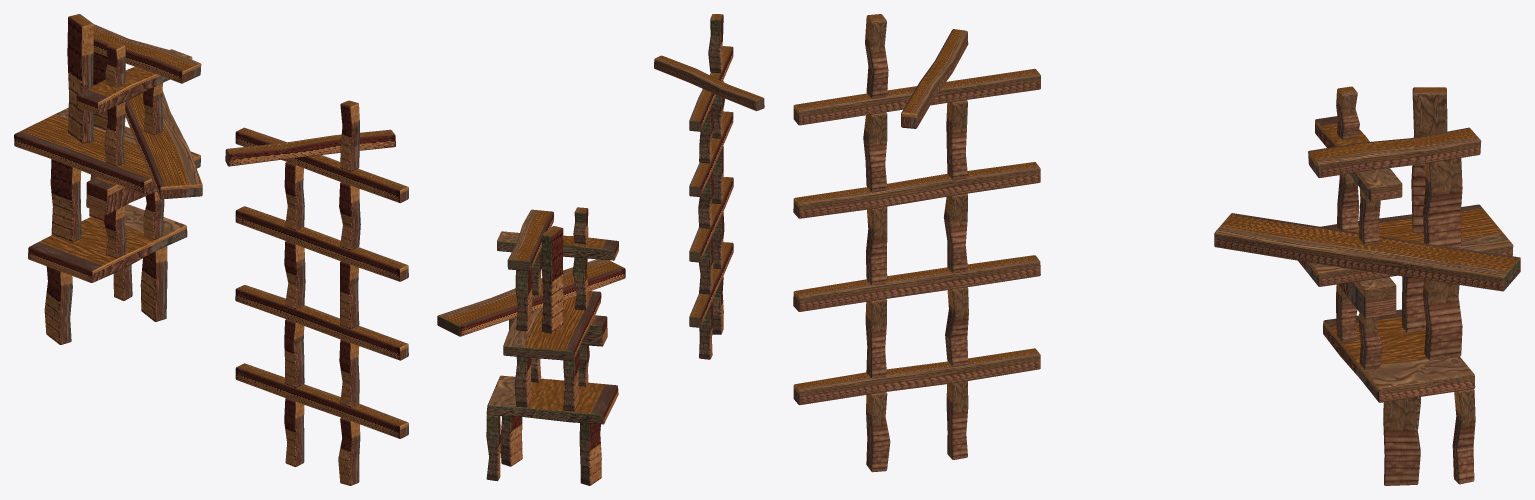
Rendered from M5_Dynamic1Wood_2kg.fbx.
The picture shows the model from 3 angles, left to right: view 1: azimuth 30°, elevation 25°; view 2: azimuth 150°, elevation 25°; view 3: azimuth 270°, elevation 25°; orthographic projection. The views are drawn at different scales.
Visible parts, largest first — view 1: D1Box5, D1Box6, D1Box17, D1Box27, D1Box24, D1Box23, D1Box14, D1Box34, D1Box30, D1Box18, D1Box9, D1Box12 (+19 smaller); view 2: D1Box5, D1Box17, D1Box6, D1Box14, D1Box34, D1Box18, D1Box12, D1Box4, D1Box1, D1Box24, D1Box27, D1Box23 (+18 smaller); view 3: D1Box17, D1Box5, D1Box27, D1Box24, D1Box23, D1Box18, D1Box30, D1Box6, D1Box13, D1Box1, D1Box10, D1Box14 (+19 smaller).
Boxes of the visible parts, <box> form: D1Box5: <box>28,204,187,282</box>; D1Box6: <box>14,107,200,193</box>; D1Box17: <box>125,91,202,199</box>; D1Box27: <box>235,206,408,281</box>; D1Box24: <box>235,285,408,360</box>; D1Box23: <box>235,363,408,438</box>; D1Box14: <box>67,14,93,143</box>; D1Box34: <box>225,129,395,166</box>; D1Box30: <box>235,127,408,203</box>; D1Box18: <box>93,24,201,83</box>; D1Box9: <box>50,159,81,242</box>; D1Box12: <box>76,49,192,114</box>; D1Box5: <box>486,375,618,424</box>; D1Box17: <box>437,259,625,336</box>; D1Box6: <box>503,291,601,360</box>; D1Box14: <box>541,226,563,333</box>; D1Box34: <box>654,55,764,111</box>; D1Box18: <box>507,209,553,270</box>; D1Box12: <box>497,231,618,260</box>; D1Box4: <box>579,423,601,485</box>; D1Box1: <box>500,416,522,466</box>; D1Box24: <box>689,177,733,262</box>; D1Box27: <box>689,111,733,196</box>; D1Box23: <box>689,242,733,327</box>; D1Box17: <box>1214,213,1520,291</box>; D1Box5: <box>1323,309,1475,402</box>; D1Box27: <box>793,162,1040,218</box>; D1Box24: <box>793,255,1040,311</box>; D1Box23: <box>793,348,1040,405</box>; D1Box18: <box>1308,127,1481,177</box>; D1Box30: <box>793,69,1040,125</box>; D1Box6: <box>1298,204,1513,286</box>; D1Box13: <box>1423,158,1462,247</box>; D1Box1: <box>1383,397,1420,485</box>; D1Box10: <box>1423,279,1462,360</box>; D1Box14: <box>1411,87,1447,232</box>.
Size of what is drawn, in the model's own units: 13.19 by 29.11 by 42.44.
